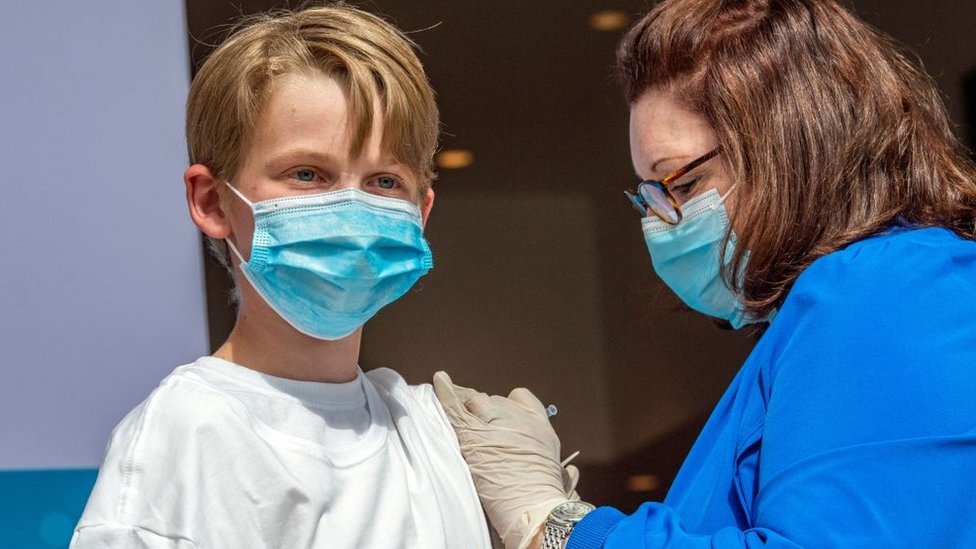with_mask: (263, 128, 412, 274), (633, 131, 768, 281)
